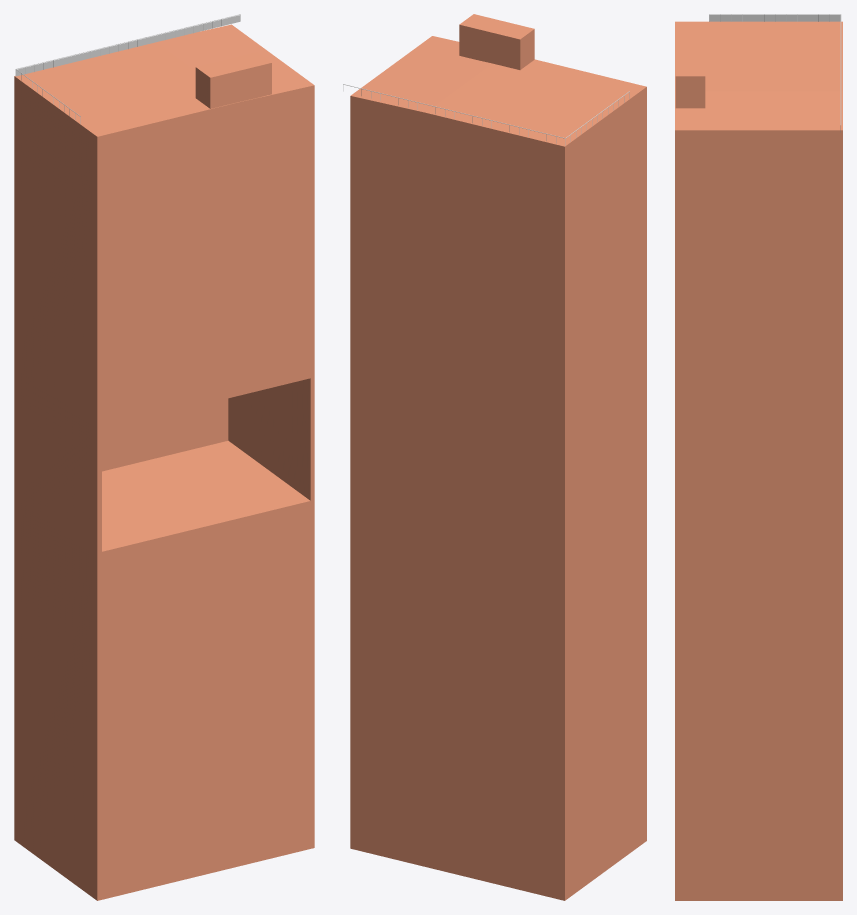
3 views of the same model, side by side, from view 1: azimuth 30°, elevation 25°; view 2: azimuth 150°, elevation 25°; view 3: azimuth 270°, elevation 25° (orthographic). The views are drawn at different scales.
Parts seen in each view (by area): view 1: Cube, Cube.001, Cylinder.003, Cylinder.002; view 2: Cube, Cube.001; view 3: Cube, Cube.001, Cylinder.001.
Boxes of the visible parts, x1,y1,x2,y2 form: Cube: [14, 24, 314, 900]; Cube.001: [195, 52, 271, 108]; Cylinder.003: [128, 14, 240, 48]; Cylinder.002: [16, 41, 128, 76]; Cube: [350, 36, 646, 900]; Cube.001: [459, 14, 534, 69]; Cube: [675, 21, 842, 900]; Cube.001: [675, 46, 705, 108]; Cylinder.001: [709, 14, 840, 21].
Size of the model in its own units: 44.33 by 149 by 28.28.
